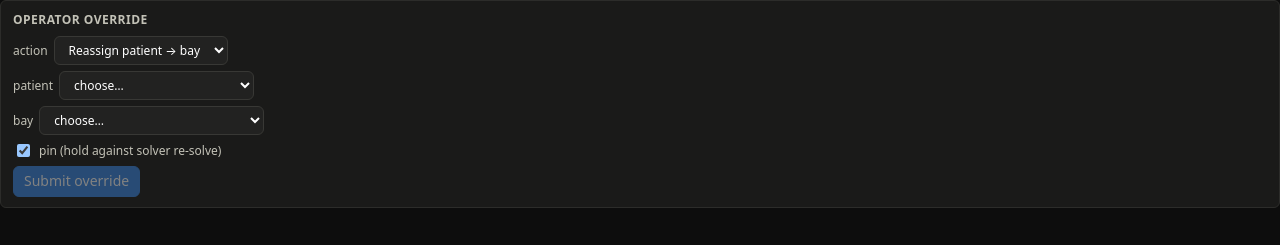
Test: OverridePanel transport failure (finding #3) › a thrown submit yields an 'unknown' verdict + resync, never a rejection
Select "p-0001 · ESI-3 · waiting_bay" in the dropdown labelled "patient" at (157, 86), box [59, 71, 254, 100]
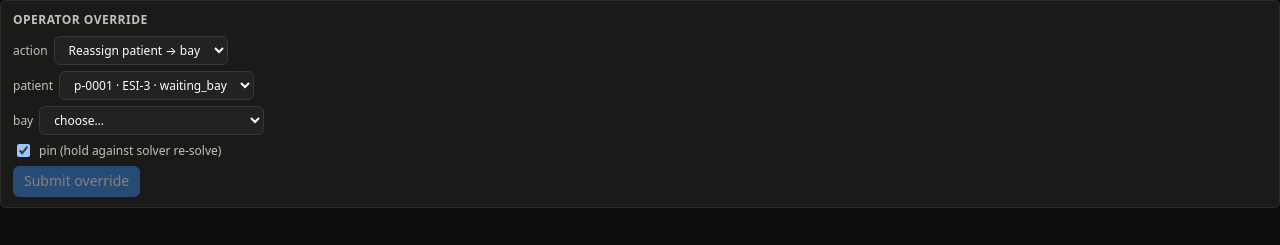
Select "bay-g1 · general · free" in the dropdown labelled "bay" at (152, 121), box [39, 106, 264, 135]
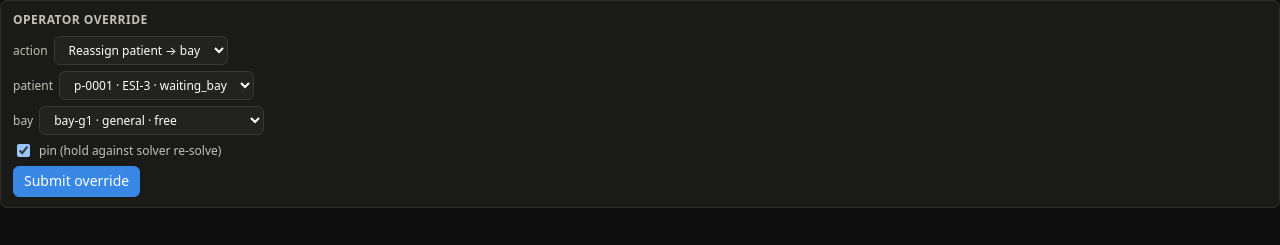
Click the button "Submit override".
click(77, 182)  # box [13, 166, 140, 197]
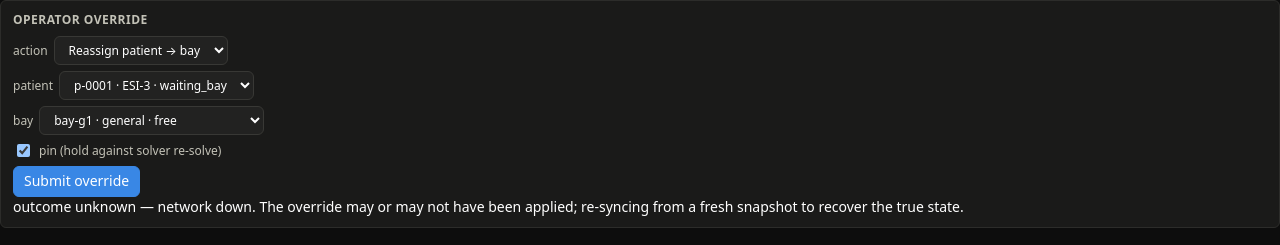
Expected: the message shows "outcome unknown", [13, 197, 136, 216]
Expected: the message shows "network down", [158, 197, 252, 216]
